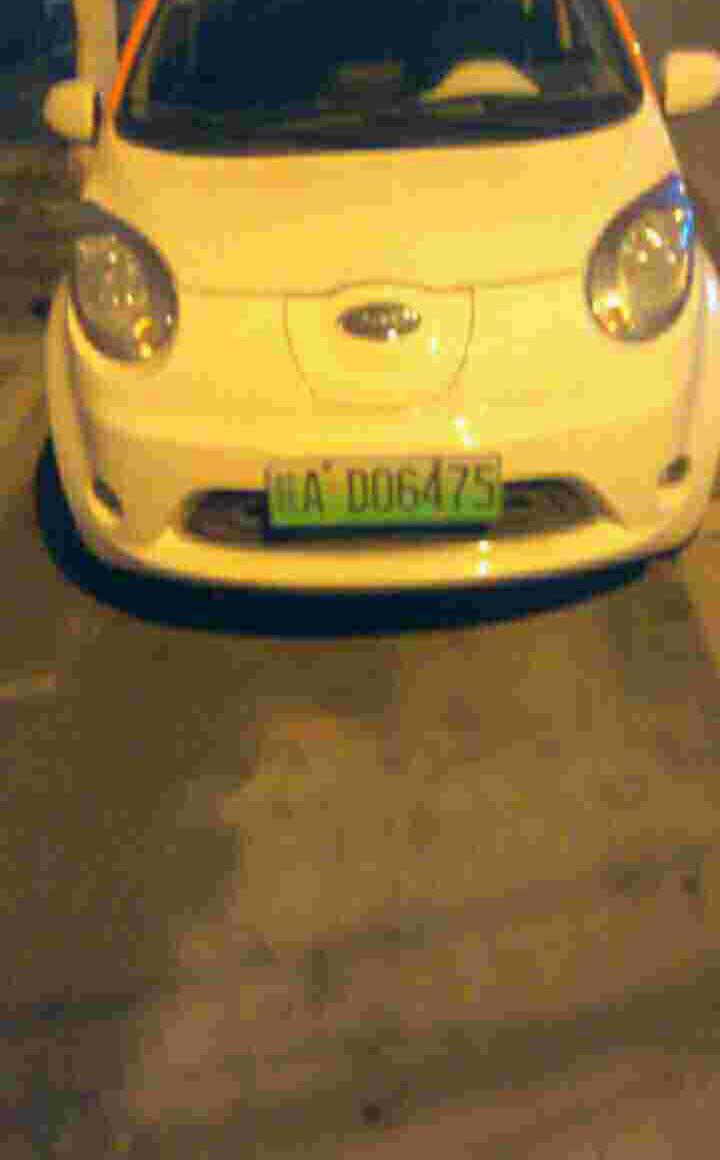car_id: (265, 460, 502, 526)
